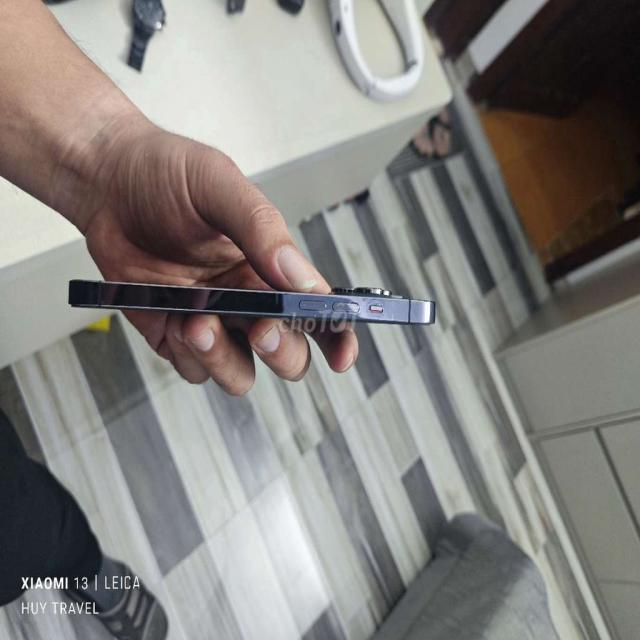gen_14: (58, 267, 463, 352)
scratch: (390, 296, 396, 330)
